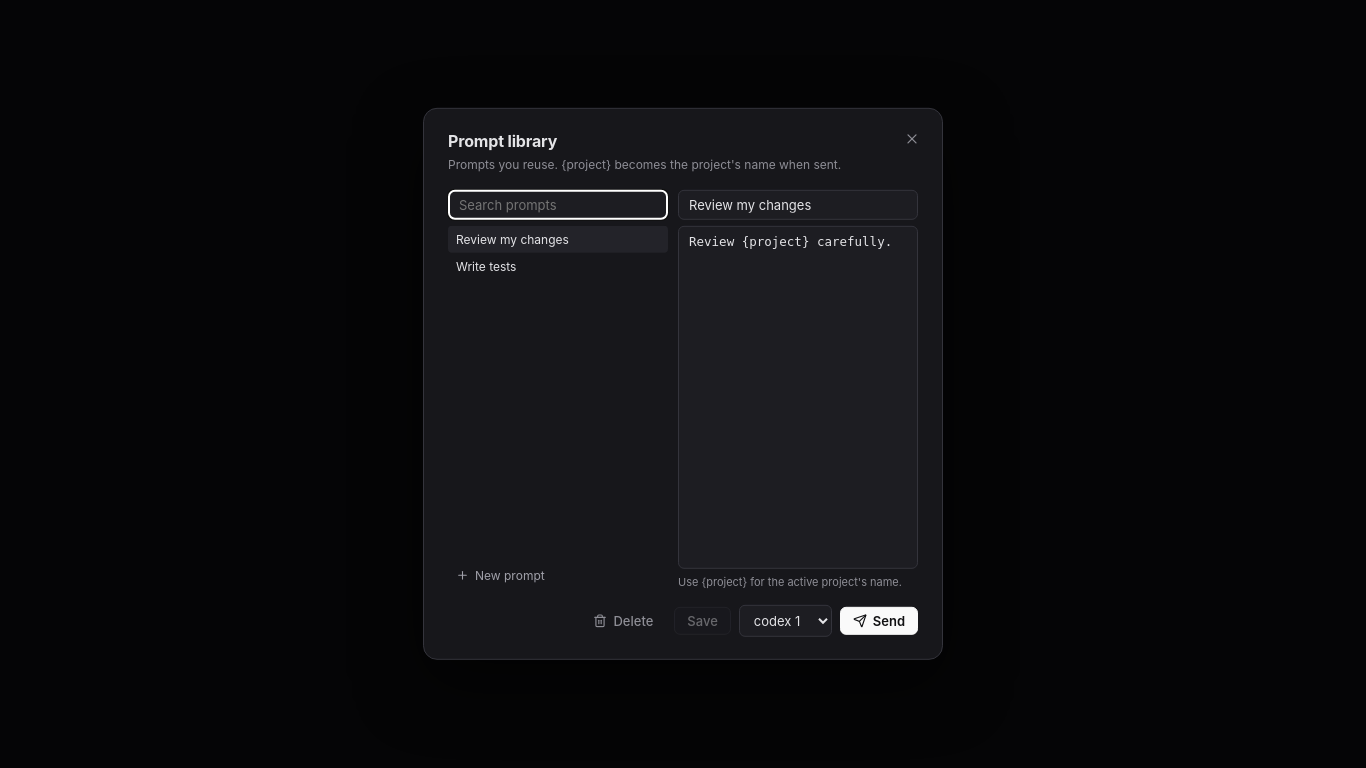
Scenario: PromptLibraryDialog › Given a new prompt without a title, when saving, then it is added with a derived title
Click the button "New prompt": (558,576) [448,562,668,589]
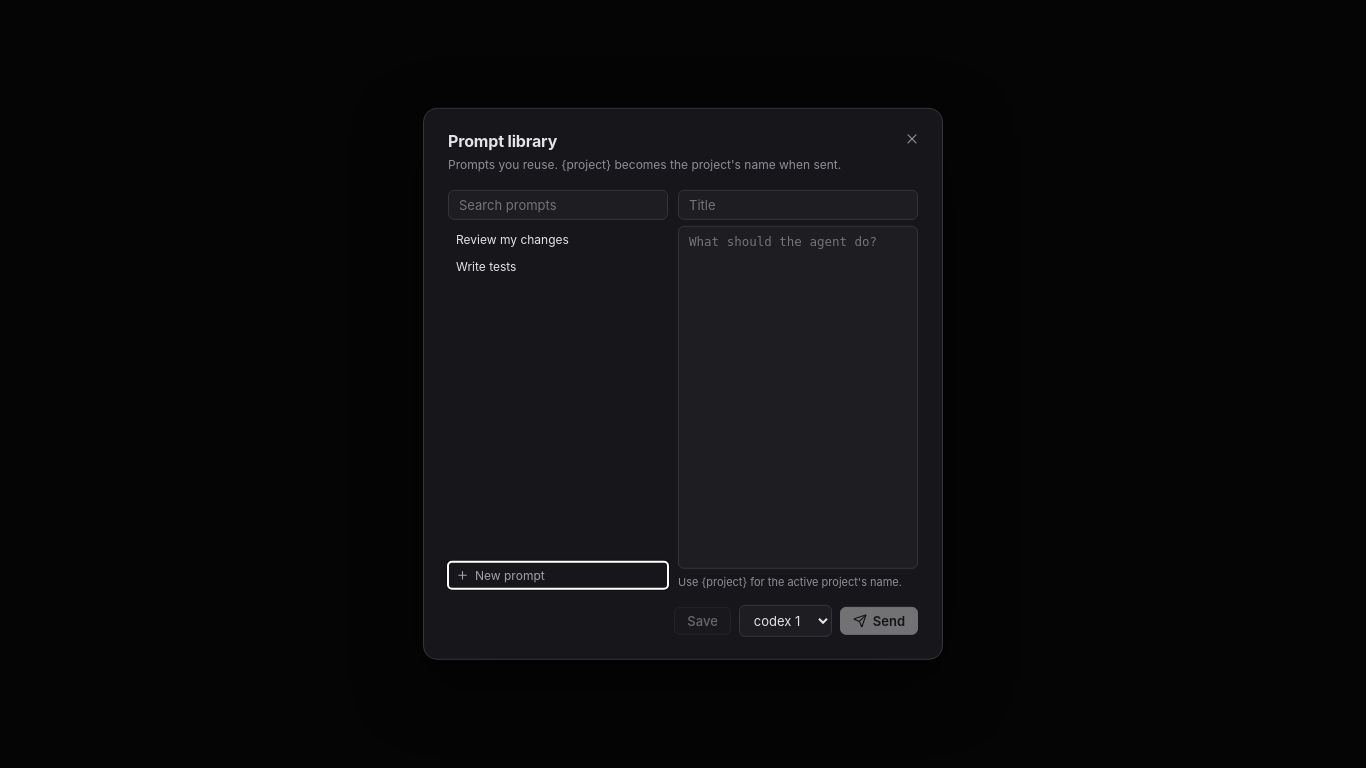
Result: the field labelled "Title" is empty at [678,190,918,220]
Result: the button "Delete" is gone
In the text box named "Prompt": (798,398) [678,226,918,569], type "Refactor the router module"
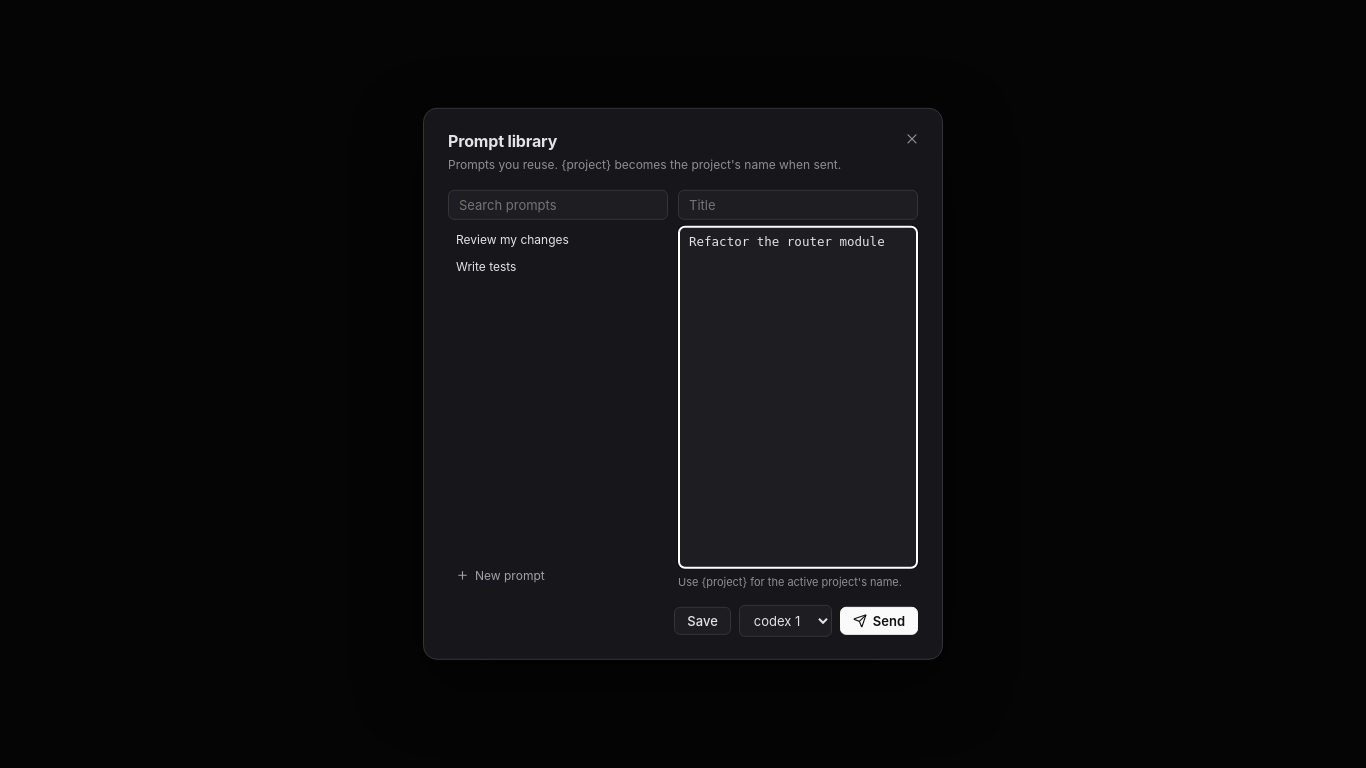
Click the button "Save": (702,621) [674,607,731,635]
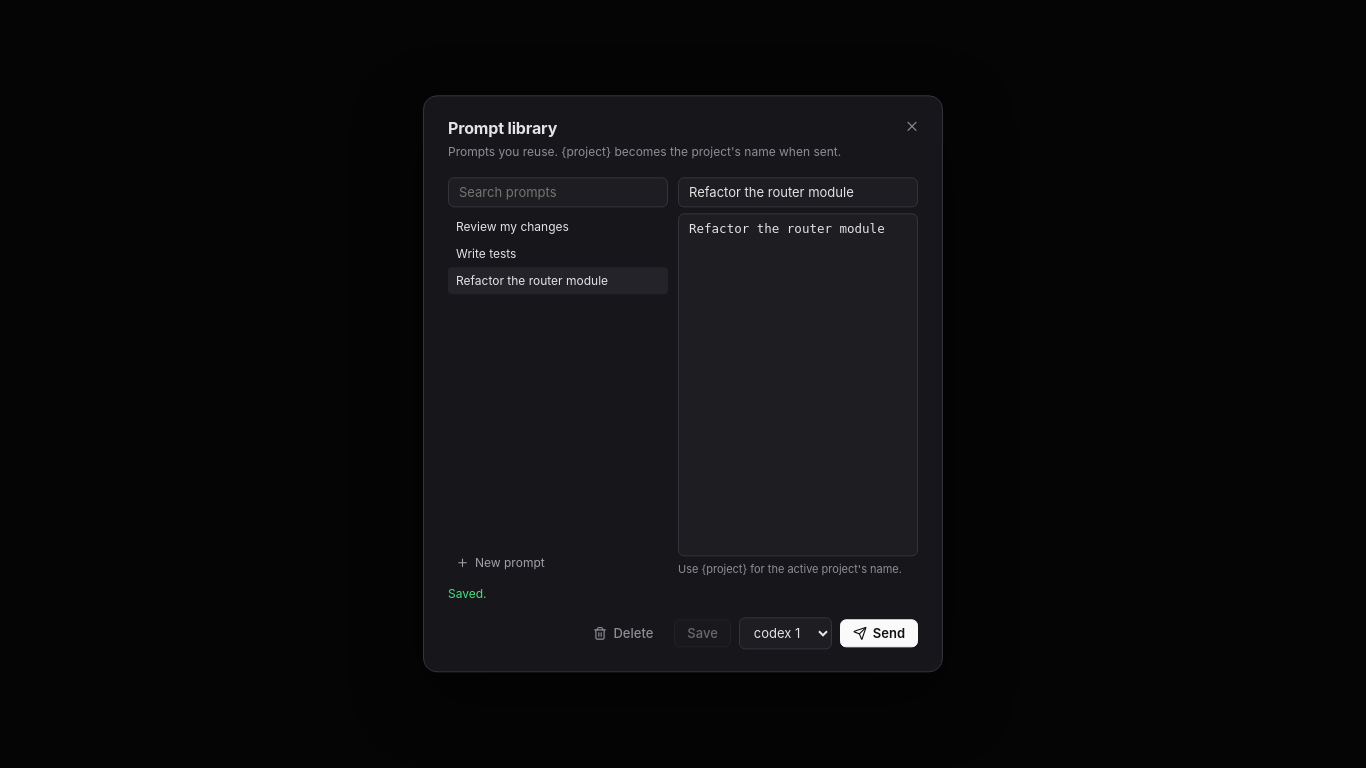
Result: the button "Refactor the router module" is shown at [448,267,668,294]
Result: the field named "Title" holds "Refactor the router module" at [678,177,918,207]
